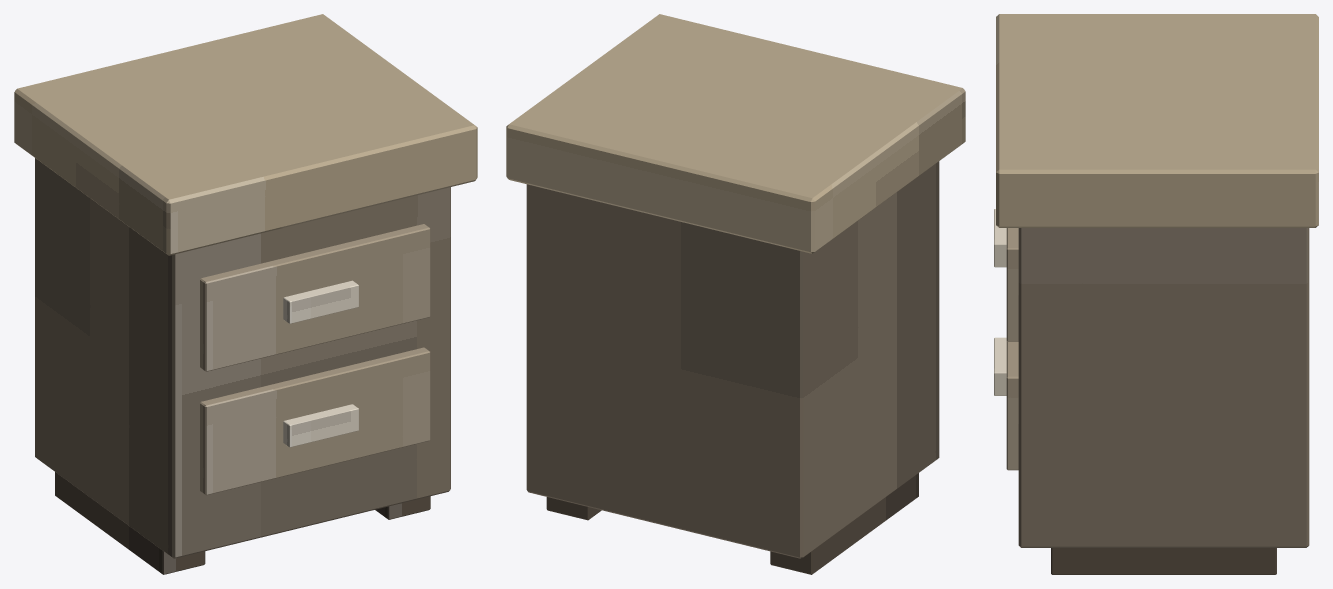
File: bedroom_nightstand_ivory.glb
The picture shows the model from 3 angles, left to right: view 1: azimuth 30°, elevation 25°; view 2: azimuth 150°, elevation 25°; view 3: azimuth 270°, elevation 25°; orthographic projection. The views are drawn at different scales.
Parts seen in each view (by area): view 1: NightstandBody, NightstandTop, NightstandDrawer_2, NightstandDrawer_1, NightstandFoot_L, NightstandHandle_2, NightstandHandle_1, NightstandFoot_R; view 2: NightstandBody, NightstandTop, NightstandFoot_L, NightstandFoot_R; view 3: NightstandBody, NightstandTop, NightstandFoot_R, NightstandDrawer_2, NightstandDrawer_1, NightstandHandle_2, NightstandHandle_1.
Part boxes in pixels (bbox=[...]): NightstandBody: bbox=[35, 158, 450, 558]; NightstandTop: bbox=[14, 14, 477, 255]; NightstandDrawer_2: bbox=[200, 347, 430, 495]; NightstandDrawer_1: bbox=[200, 224, 430, 371]; NightstandFoot_L: bbox=[55, 472, 205, 574]; NightstandHandle_2: bbox=[283, 404, 358, 447]; NightstandHandle_1: bbox=[283, 280, 358, 323]; NightstandFoot_R: bbox=[375, 496, 430, 519]; NightstandBody: bbox=[526, 161, 939, 558]; NightstandTop: bbox=[506, 14, 965, 253]; NightstandFoot_L: bbox=[770, 473, 918, 574]; NightstandFoot_R: bbox=[546, 497, 601, 520]; NightstandBody: bbox=[1018, 228, 1309, 547]; NightstandTop: bbox=[996, 14, 1318, 227]; NightstandFoot_R: bbox=[1051, 548, 1276, 574]; NightstandDrawer_2: bbox=[1006, 341, 1018, 470]; NightstandDrawer_1: bbox=[1006, 228, 1018, 341]; NightstandHandle_2: bbox=[994, 337, 1006, 395]; NightstandHandle_1: bbox=[994, 209, 1006, 267].
Bounding box in the file's own units: 0.58 × 0.71 × 0.503.
1 material, 1 textured.
